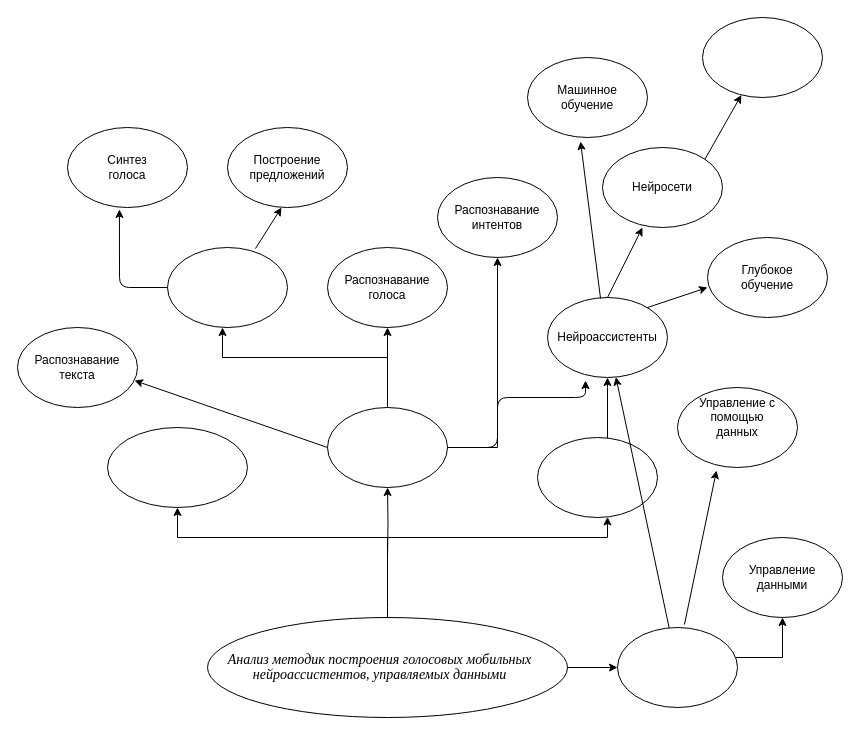
This 860x735 diagram has some shape labels left out. The shapes that lost their labels are listed below. From the top down, each one's box as (x1, y1, x2, y2) in pixels, then its label:
(702, 16, 822, 98): Искусственный интеллект
(166, 246, 288, 328): Синтез речи
(106, 426, 248, 508): Методики построения нейроассистентов
(326, 406, 448, 488): Голосовые нейроассистенты
(536, 436, 658, 518): Мобильные нейроассистенты
(616, 626, 738, 708): Нейроассистенты, управляемые данными
